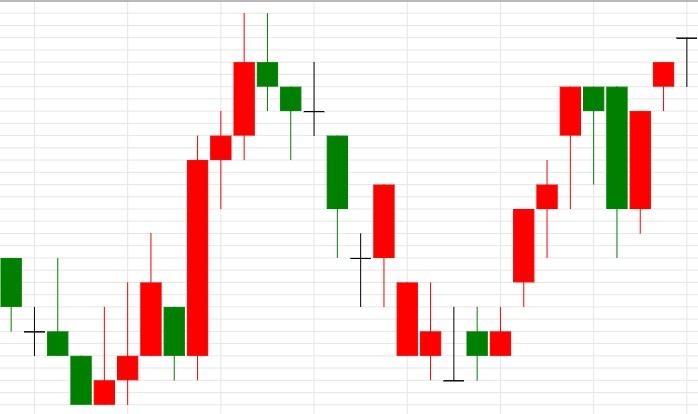hanging_man_fall: (444, 86, 605, 383)
inverse_hammer_rise: (0, 233, 116, 406), (0, 258, 68, 357)
three_white_soldiers_rise: (0, 233, 163, 406)
